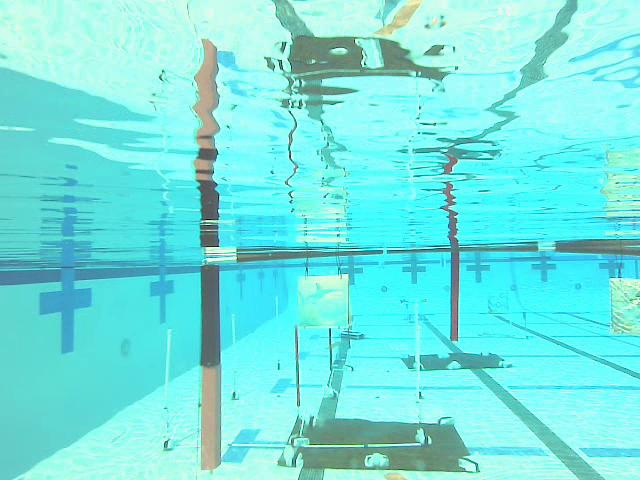black_poster: (295, 326, 300, 405)
divider: (450, 243, 459, 341)
left_gate_poster: (201, 243, 220, 469)
shark: (298, 275, 350, 328)
white_poster: (163, 329, 171, 448), (231, 314, 238, 400), (415, 325, 421, 403)
